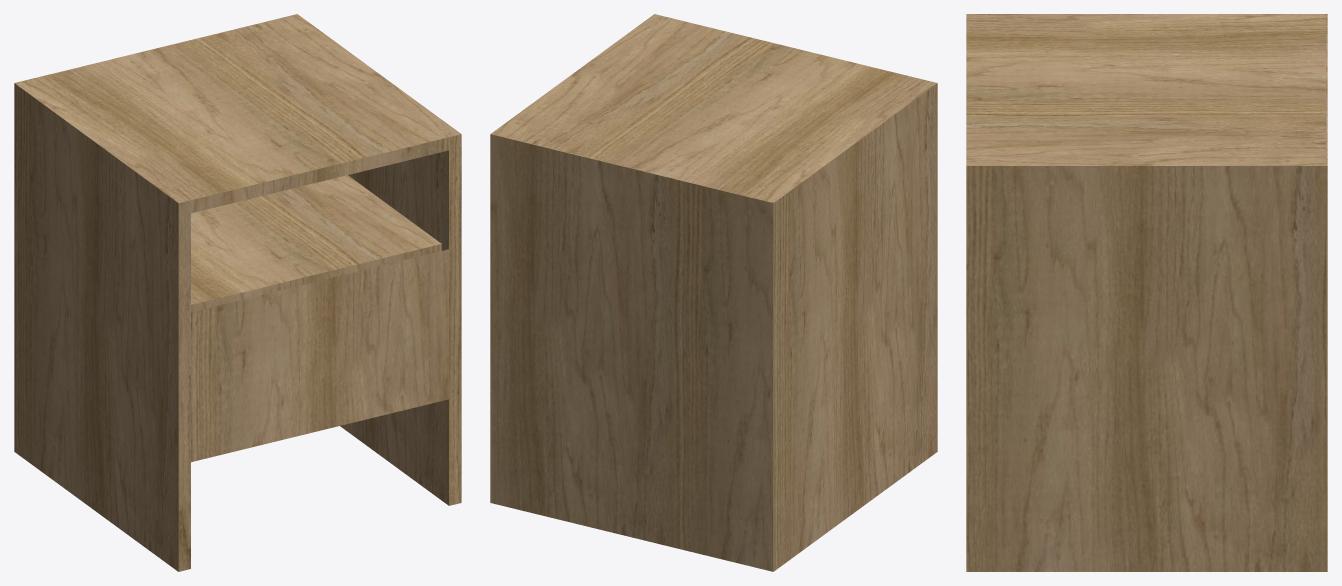
File: 3dExport-mob-1.glb
3 renders of one model, left to right at view 1: azimuth 30°, elevation 25°; view 2: azimuth 150°, elevation 25°; view 3: azimuth 270°, elevation 25°, orthographic. The views are drawn at different scales.
Visible parts, largest first — view 1: Extrusion <10699 Extrusão<, Extrusion <10926 Extrusão<, Extrusion <12478 Extrusão<, Extrusion <11179 Extrusão<, Extrusion <11046 Extrusão<, Extrusion <10619 Extrusão<; view 2: Extrusion <10619 Extrusão<, Extrusion <10699 Extrusão<, Extrusion <10926 Extrusão<; view 3: Extrusion <11046 Extrusão<, Extrusion <10926 Extrusão<, Extrusion <10619 Extrusão<.
Part boxes in pixels (x1,y1,x2,y2): Extrusion <10699 Extrusão<: (15, 84, 190, 571); Extrusion <10926 Extrusão<: (15, 14, 461, 213); Extrusion <12478 Extrusão<: (191, 249, 448, 462); Extrusion <11179 Extrusão<: (191, 175, 441, 311); Extrusion <11046 Extrusão<: (340, 134, 461, 505); Extrusion <10619 Extrusão<: (14, 14, 297, 451); Extrusion <10619 Extrusão<: (490, 133, 774, 571); Extrusion <10699 Extrusão<: (774, 83, 937, 570); Extrusion <10926 Extrusão<: (491, 14, 937, 202); Extrusion <11046 Extrusão<: (966, 166, 1325, 571); Extrusion <10926 Extrusão<: (966, 14, 1325, 165); Extrusion <10619 Extrusão<: (1326, 14, 1327, 571).
Bounding box in the file's own units: 0.45 × 0.56 × 0.452.
Materials: 1 (1 with a texture image).
